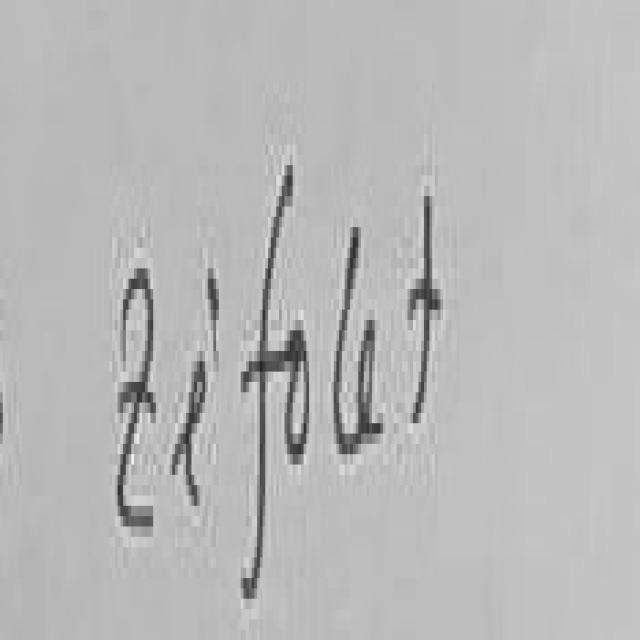Z: (118, 268, 156, 526)
e: (361, 320, 389, 452)
f: (243, 165, 295, 599)
i: (172, 361, 208, 506), (208, 268, 220, 338)
l: (334, 227, 361, 454)
o: (287, 330, 309, 465)
t: (410, 196, 443, 418)
